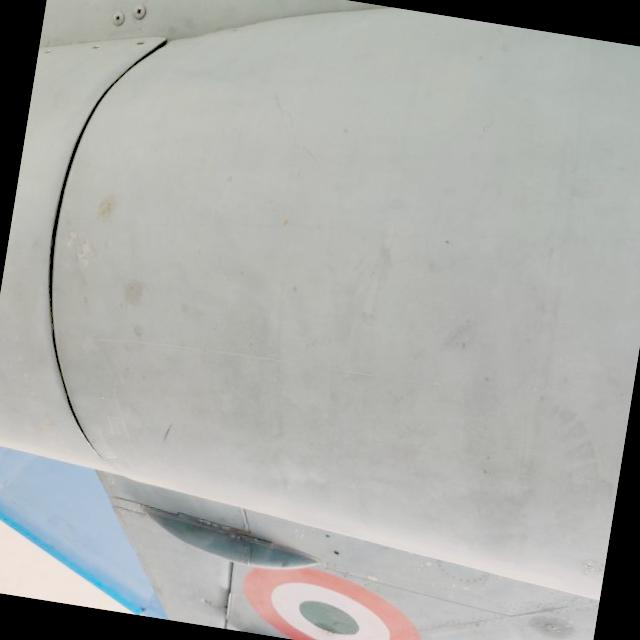scratch: (79, 305, 456, 420)
